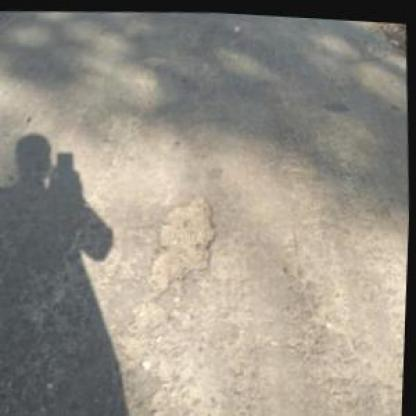pothole: (142, 187, 224, 294)
